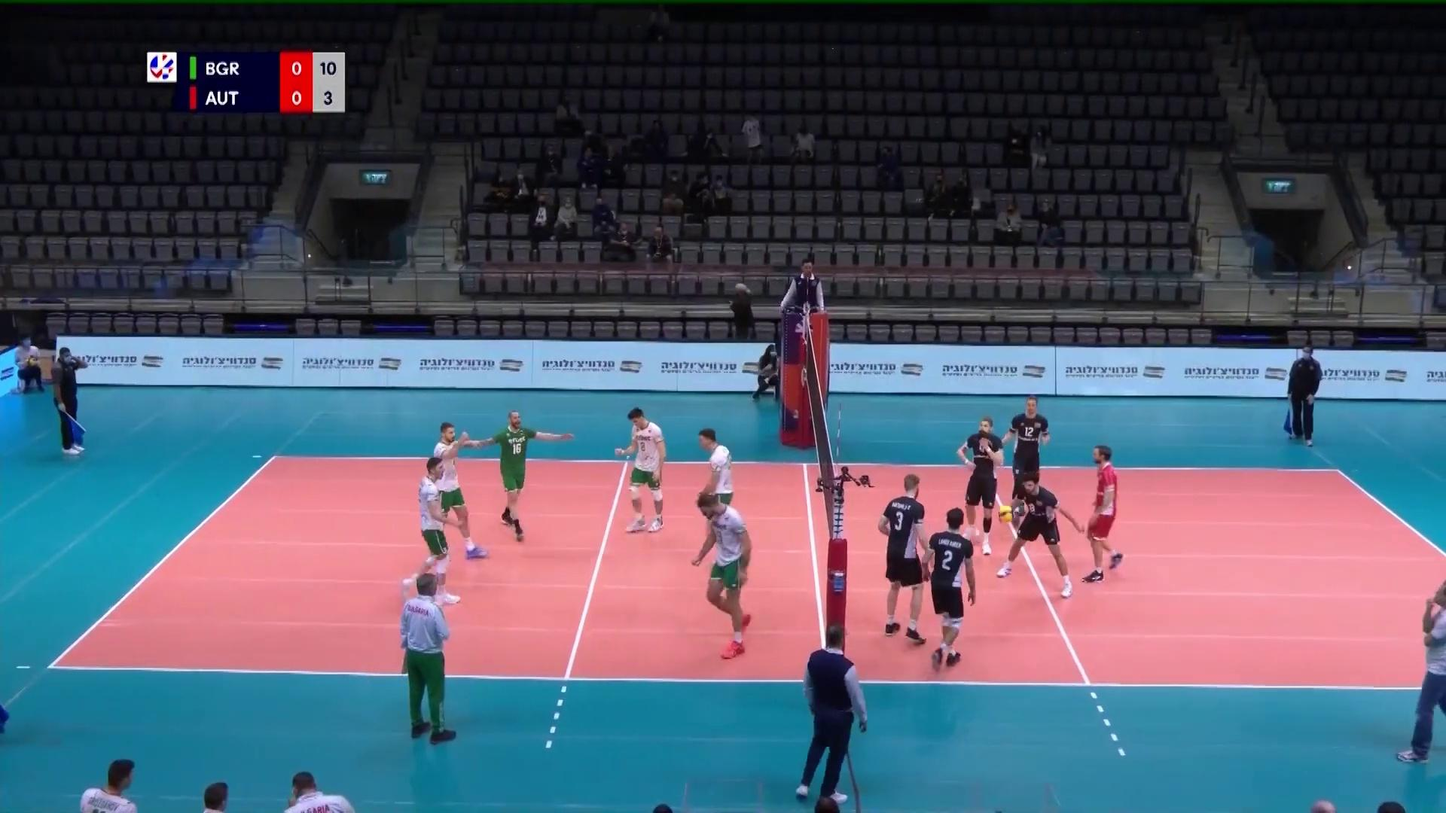ball: (998, 504, 1015, 523)
